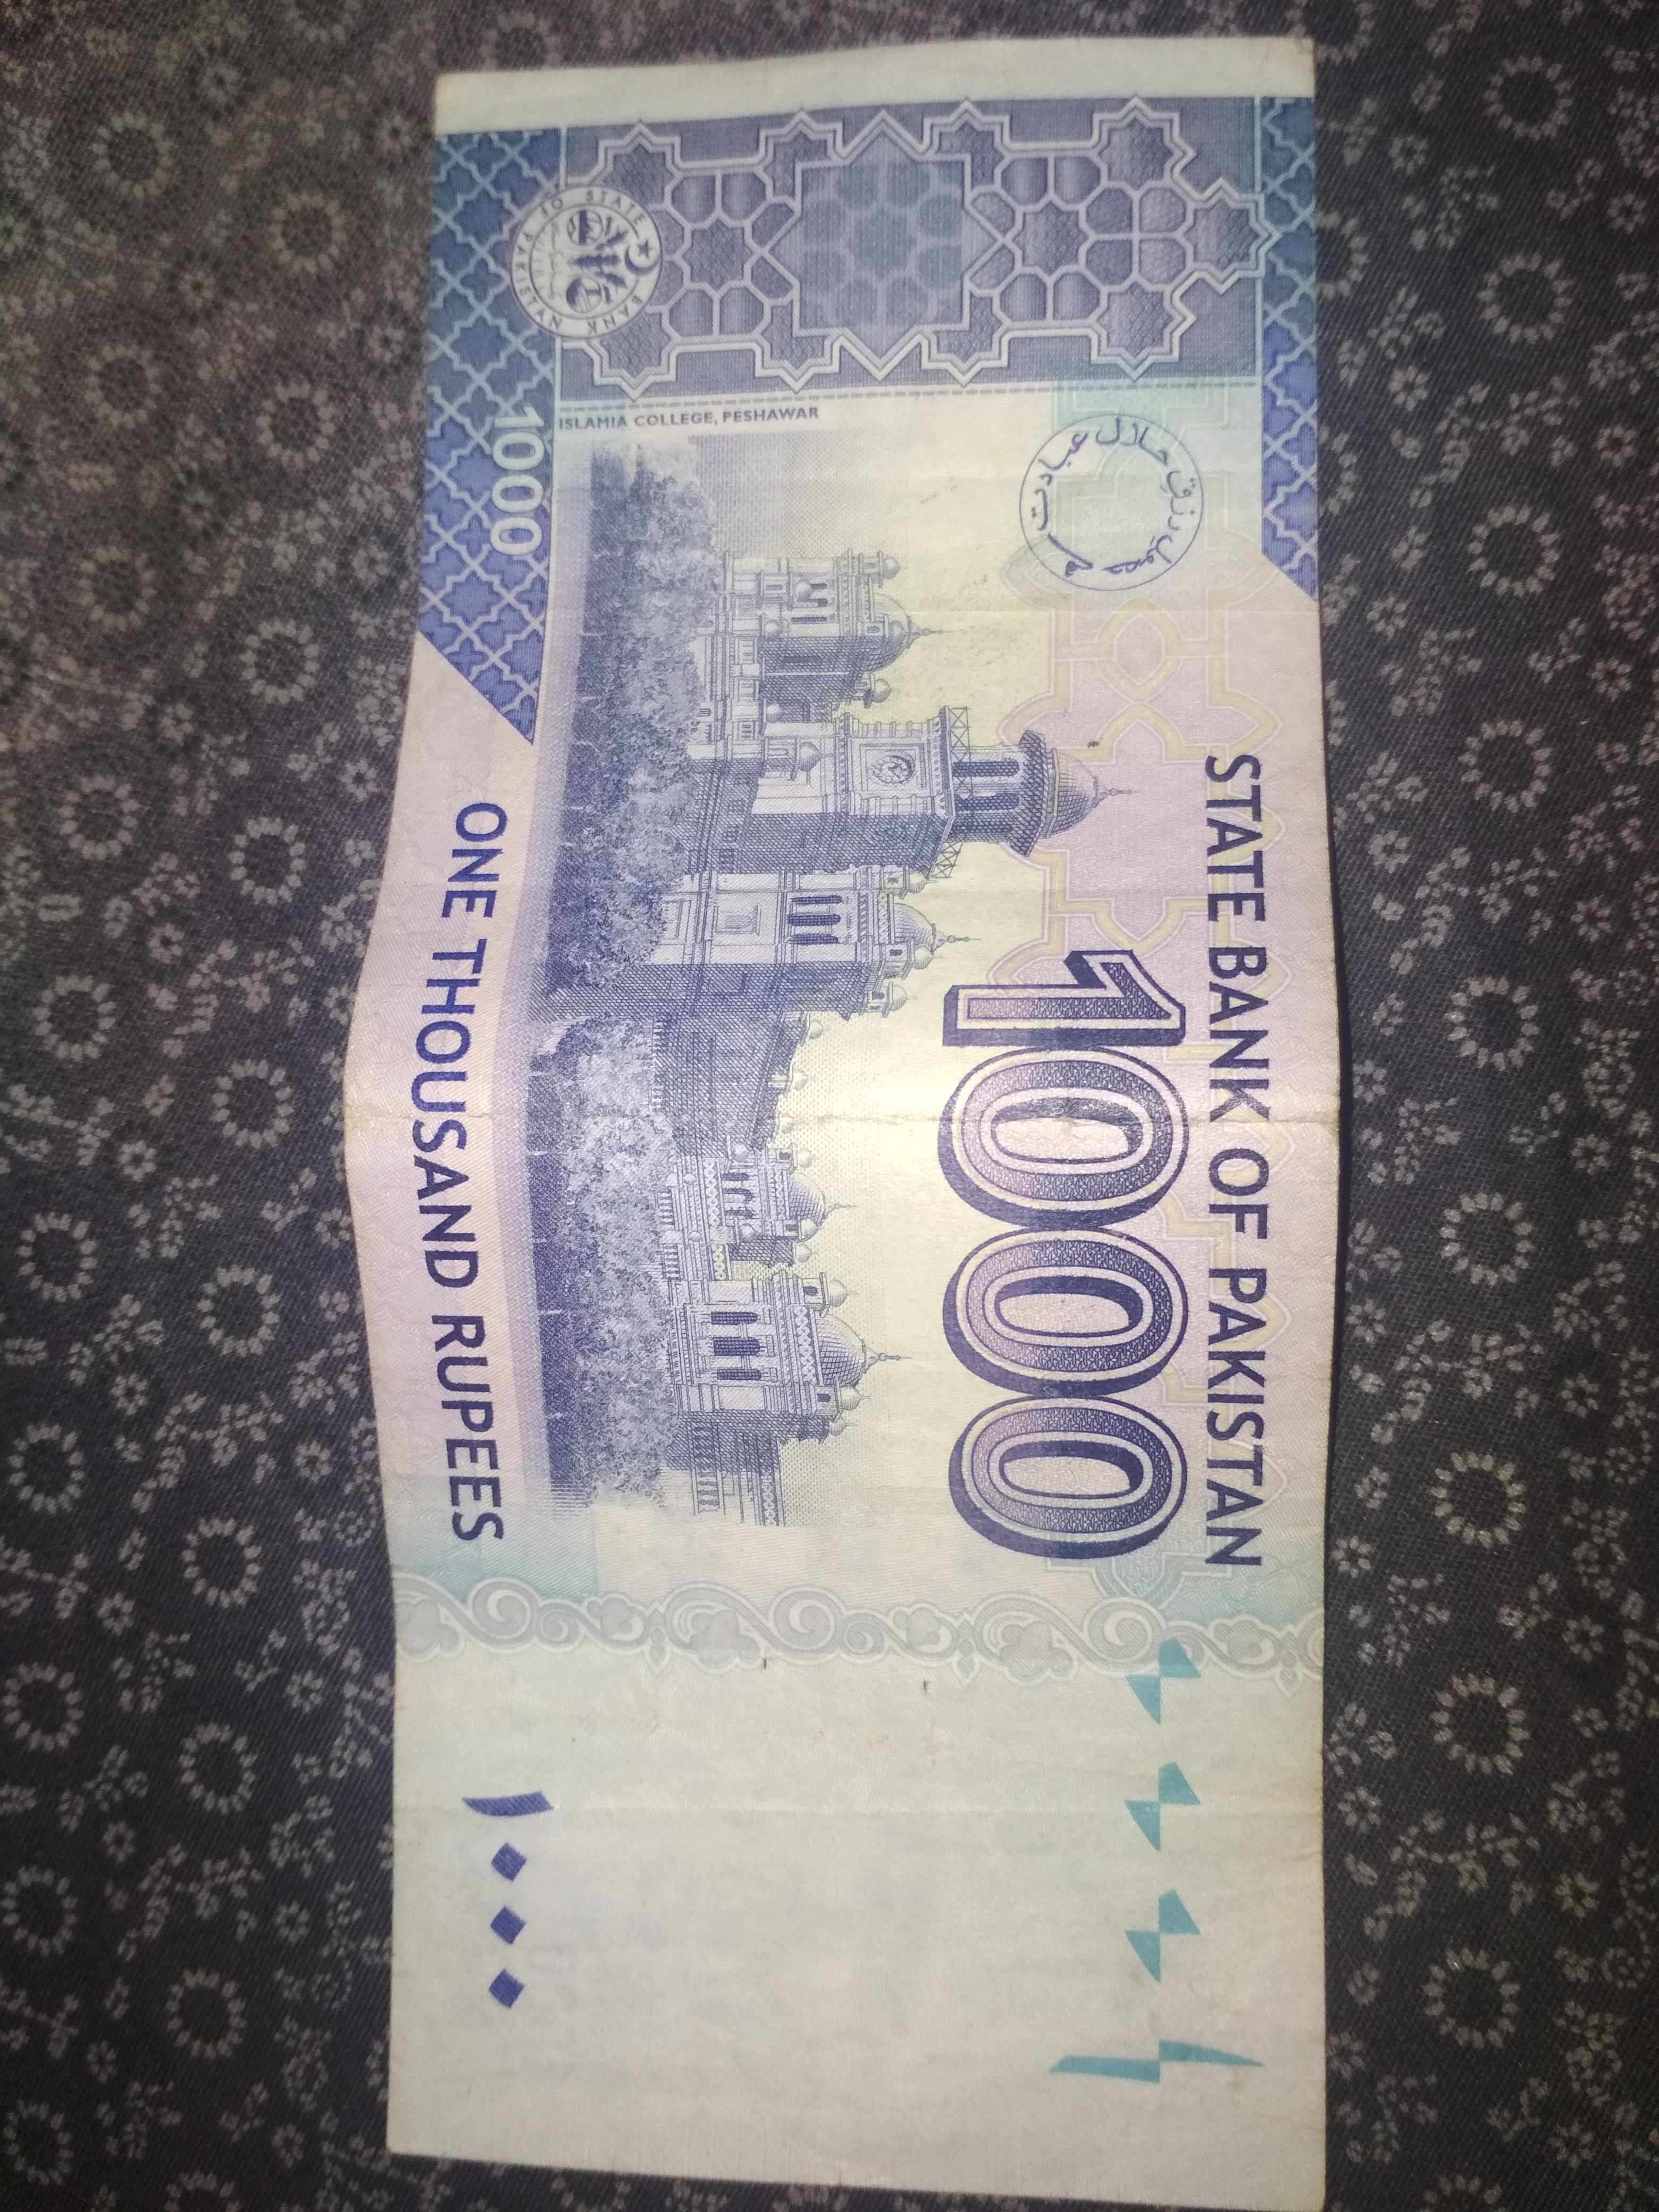1000 rupee: (359, 47, 1361, 2212)
